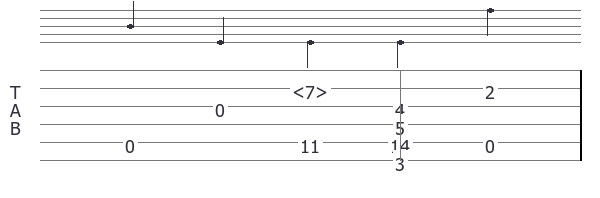0: (125, 134, 139, 151), (215, 98, 229, 115), (485, 134, 499, 151)
11: (300, 134, 324, 151)
14: (390, 134, 414, 151)
2: (485, 80, 499, 97)
3: (395, 152, 409, 169)
4: (395, 98, 409, 115)
5: (395, 116, 409, 133)
harmonic: (292, 80, 332, 97)
